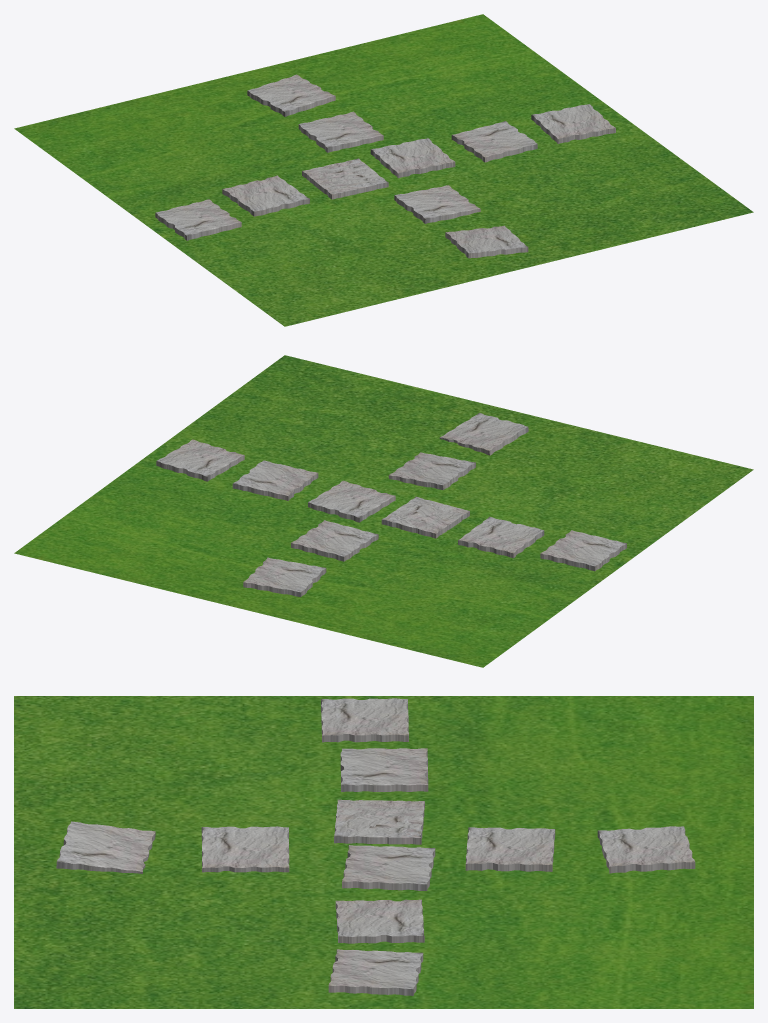
File: pathNESW.glb
3 renders of one model, top to bottom at view 1: azimuth 30°, elevation 25°; view 2: azimuth 150°, elevation 25°; view 3: azimuth 270°, elevation 25°, orthographic. The views are drawn at different scales.
Visible parts, largest first — view 1: Plane, Plane.003, Plane.014, Plane.001, Plane.012, Plane.007, Plane.005, Plane.006, Plane.009, Plane.010, Plane.004, Plane.002; view 2: Plane, Plane.007, Plane.003, Plane.001, Plane.012, Plane.005, Plane.014, Plane.010, Plane.006, Plane.009, Plane.004, Plane.002; view 3: Plane, Plane.010, Plane.009, Plane.007, Plane.014, Plane.005, Plane.003, Plane.012, Plane.001, Plane.006, Plane.004, Plane.002.
Part boxes in pixels (left/top/right/bottom): Plane: left=14, top=14, right=753, bottom=326; Plane.003: left=222, top=175, right=309, bottom=216; Plane.014: left=247, top=74, right=335, bottom=116; Plane.001: left=155, top=199, right=241, bottom=240; Plane.012: left=298, top=111, right=383, bottom=152; Plane.007: left=531, top=104, right=615, bottom=143; Plane.005: left=370, top=138, right=455, bottom=178; Plane.006: left=451, top=121, right=537, bottom=162; Plane.009: left=394, top=185, right=480, bottom=223; Plane.010: left=445, top=225, right=528, bottom=258; Plane.004: left=302, top=158, right=386, bottom=199; Plane.002: left=302, top=159, right=388, bottom=198; Plane: left=14, top=355, right=753, bottom=667; Plane.007: left=156, top=439, right=244, bottom=481; Plane.003: left=458, top=516, right=544, bottom=558; Plane.001: left=540, top=530, right=626, bottom=571; Plane.012: left=291, top=520, right=378, bottom=561; Plane.005: left=308, top=480, right=395, bottom=522; Plane.014: left=243, top=557, right=326, bottom=597; Plane.010: left=439, top=413, right=528, bottom=455; Plane.006: left=232, top=460, right=318, bottom=500; Plane.009: left=388, top=452, right=475, bottom=489; Plane.004: left=381, top=497, right=469, bottom=538; Plane.002: left=382, top=496, right=468, bottom=538; Plane: left=14, top=696, right=753, bottom=1008; Plane.010: left=56, top=821, right=155, bottom=873; Plane.009: left=201, top=826, right=289, bottom=872; Plane.007: left=328, top=949, right=423, bottom=995; Plane.014: left=597, top=826, right=695, bottom=873; Plane.005: left=342, top=845, right=435, bottom=890; Plane.003: left=340, top=748, right=428, bottom=791; Plane.012: left=465, top=827, right=555, bottom=871; Plane.001: left=321, top=698, right=408, bottom=742; Plane.006: left=335, top=899, right=424, bottom=943; Plane.004: left=334, top=799, right=424, bottom=844; Plane.002: left=334, top=800, right=424, bottom=844.
Size of the model in its own units: 1 by 0.0235 by 1.
8 materials, 8 textured.
